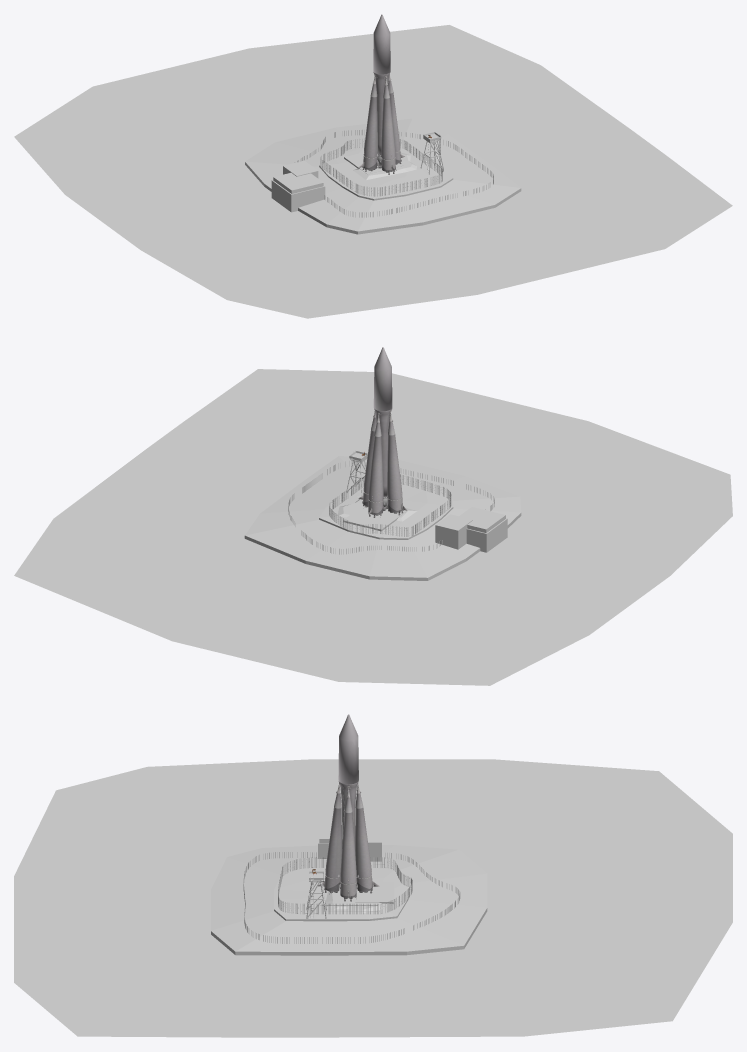
The model's file is env.glb.
3 renders of one model, top to bottom at view 1: azimuth 30°, elevation 25°; view 2: azimuth 150°, elevation 25°; view 3: azimuth 270°, elevation 25°, orthographic. The views are drawn at different scales.
Parts seen in each view (by area): view 1: Plane, sputnik2, Cube.001, Circle, Circle.001; view 2: Plane, sputnik2, Cube.001, Circle, Circle.001, Cube.004; view 3: Plane, sputnik2, Circle, Circle.001, Cube.001, Cube.004.
Part boxes in pixels (left/top/right/bottom): Plane: left=14, top=25, right=732, bottom=318; sputnik2: left=358, top=14, right=404, bottom=174; Cube.001: left=271, top=160, right=325, bottom=212; Circle: left=320, top=138, right=442, bottom=196; Circle.001: left=295, top=130, right=493, bottom=217; Plane: left=14, top=369, right=732, bottom=685; sputnik2: left=358, top=347, right=407, bottom=517; Cube.001: left=435, top=507, right=507, bottom=552; Circle: left=329, top=474, right=451, bottom=536; Circle.001: left=288, top=461, right=494, bottom=554; Cube.004: left=343, top=505, right=406, bottom=531; Plane: left=14, top=759, right=732, bottom=1037; sputnik2: left=318, top=714, right=379, bottom=901; Circle: left=278, top=857, right=412, bottom=913; Circle.001: left=243, top=852, right=460, bottom=943; Cube.001: left=318, top=821, right=381, bottom=861; Cube.004: left=339, top=881, right=394, bottom=903.
Size of the model in its own units: 108 by 34.64 by 118.
Materials: 6 (6 with a texture image).
